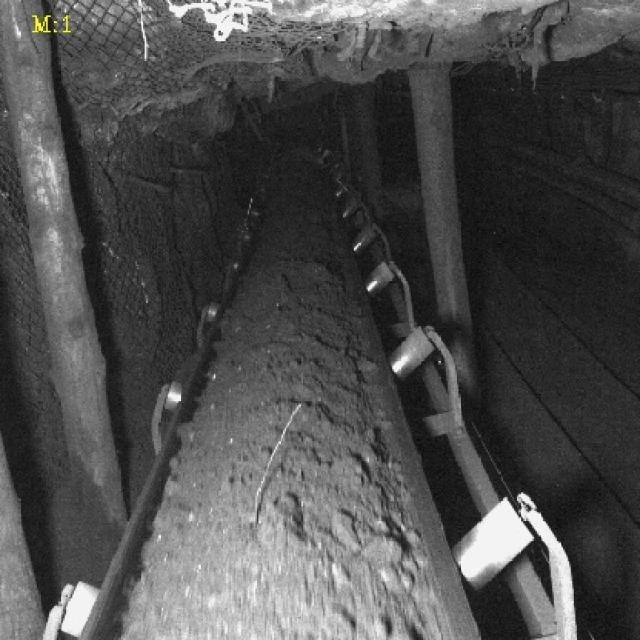bolt: (249, 402, 300, 530)
